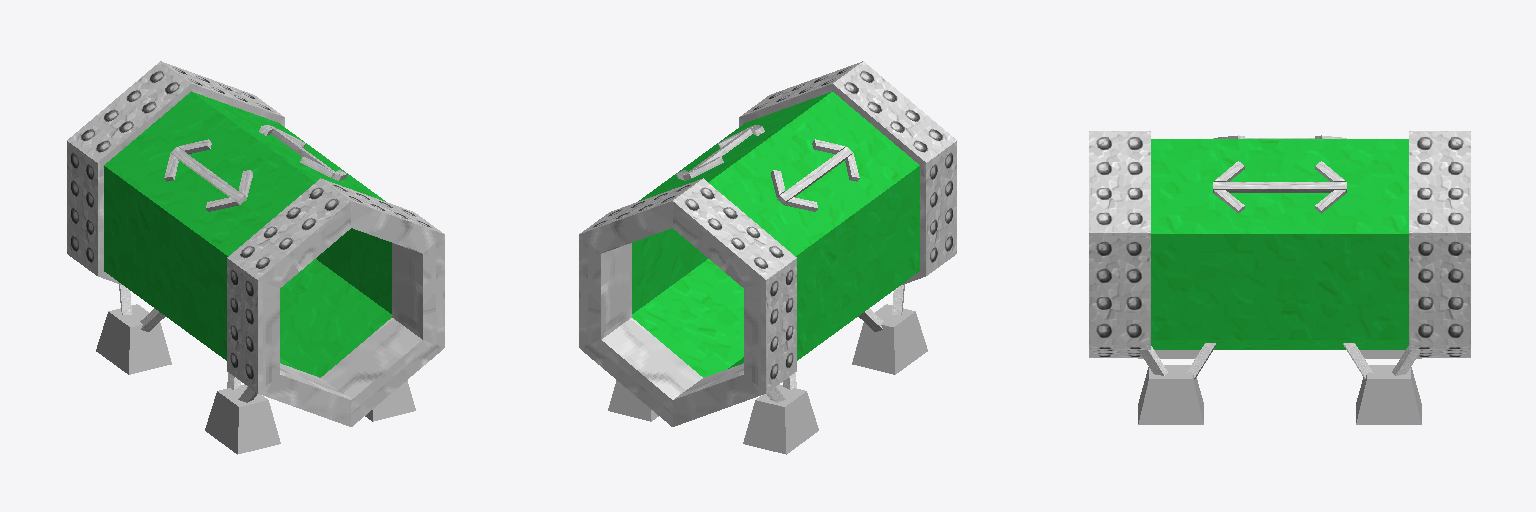
The picture shows the model from 3 angles: view 1: azimuth 30°, elevation 25°; view 2: azimuth 150°, elevation 25°; view 3: azimuth 270°, elevation 25°; orthographic projection.
Parts seen in each view (by area): view 1: Cylinder_Cylinder.003, Band7.001_Circle.001, ConcreteSupport_Cube.006, Cube.001_Cube.008; view 2: Cylinder_Cylinder.003, Band7.001_Circle.001, ConcreteSupport_Cube.006, Cube.001_Cube.008; view 3: Cylinder_Cylinder.003, Band7.001_Circle.001, ConcreteSupport_Cube.006, Cube.001_Cube.008, SupportLeg_Cylinder, SupportLeg2_Cylinder.001.
Boxes of the visible parts, box(x1,y1,x2,y2) form: Cylinder_Cylinder.003: box(104, 91, 391, 377); Band7.001_Circle.001: box(67, 61, 444, 426); ConcreteSupport_Cube.006: box(96, 304, 415, 454); Cube.001_Cube.008: box(164, 125, 347, 211); Cylinder_Cylinder.003: box(632, 91, 919, 377); Band7.001_Circle.001: box(579, 61, 956, 426); ConcreteSupport_Cube.006: box(608, 304, 927, 454); Cube.001_Cube.008: box(676, 125, 859, 211); Cylinder_Cylinder.003: box(1151, 139, 1408, 349); Band7.001_Circle.001: box(1089, 131, 1470, 357); ConcreteSupport_Cube.006: box(1138, 350, 1421, 424); Cube.001_Cube.008: box(1213, 135, 1346, 213); SupportLeg_Cylinder: box(1139, 346, 1420, 375); SupportLeg2_Cylinder.001: box(1187, 343, 1372, 378).
Size of the model in its own units: 2.33 by 2.97 by 4.1.
Materials: 4 (3 with a texture image).